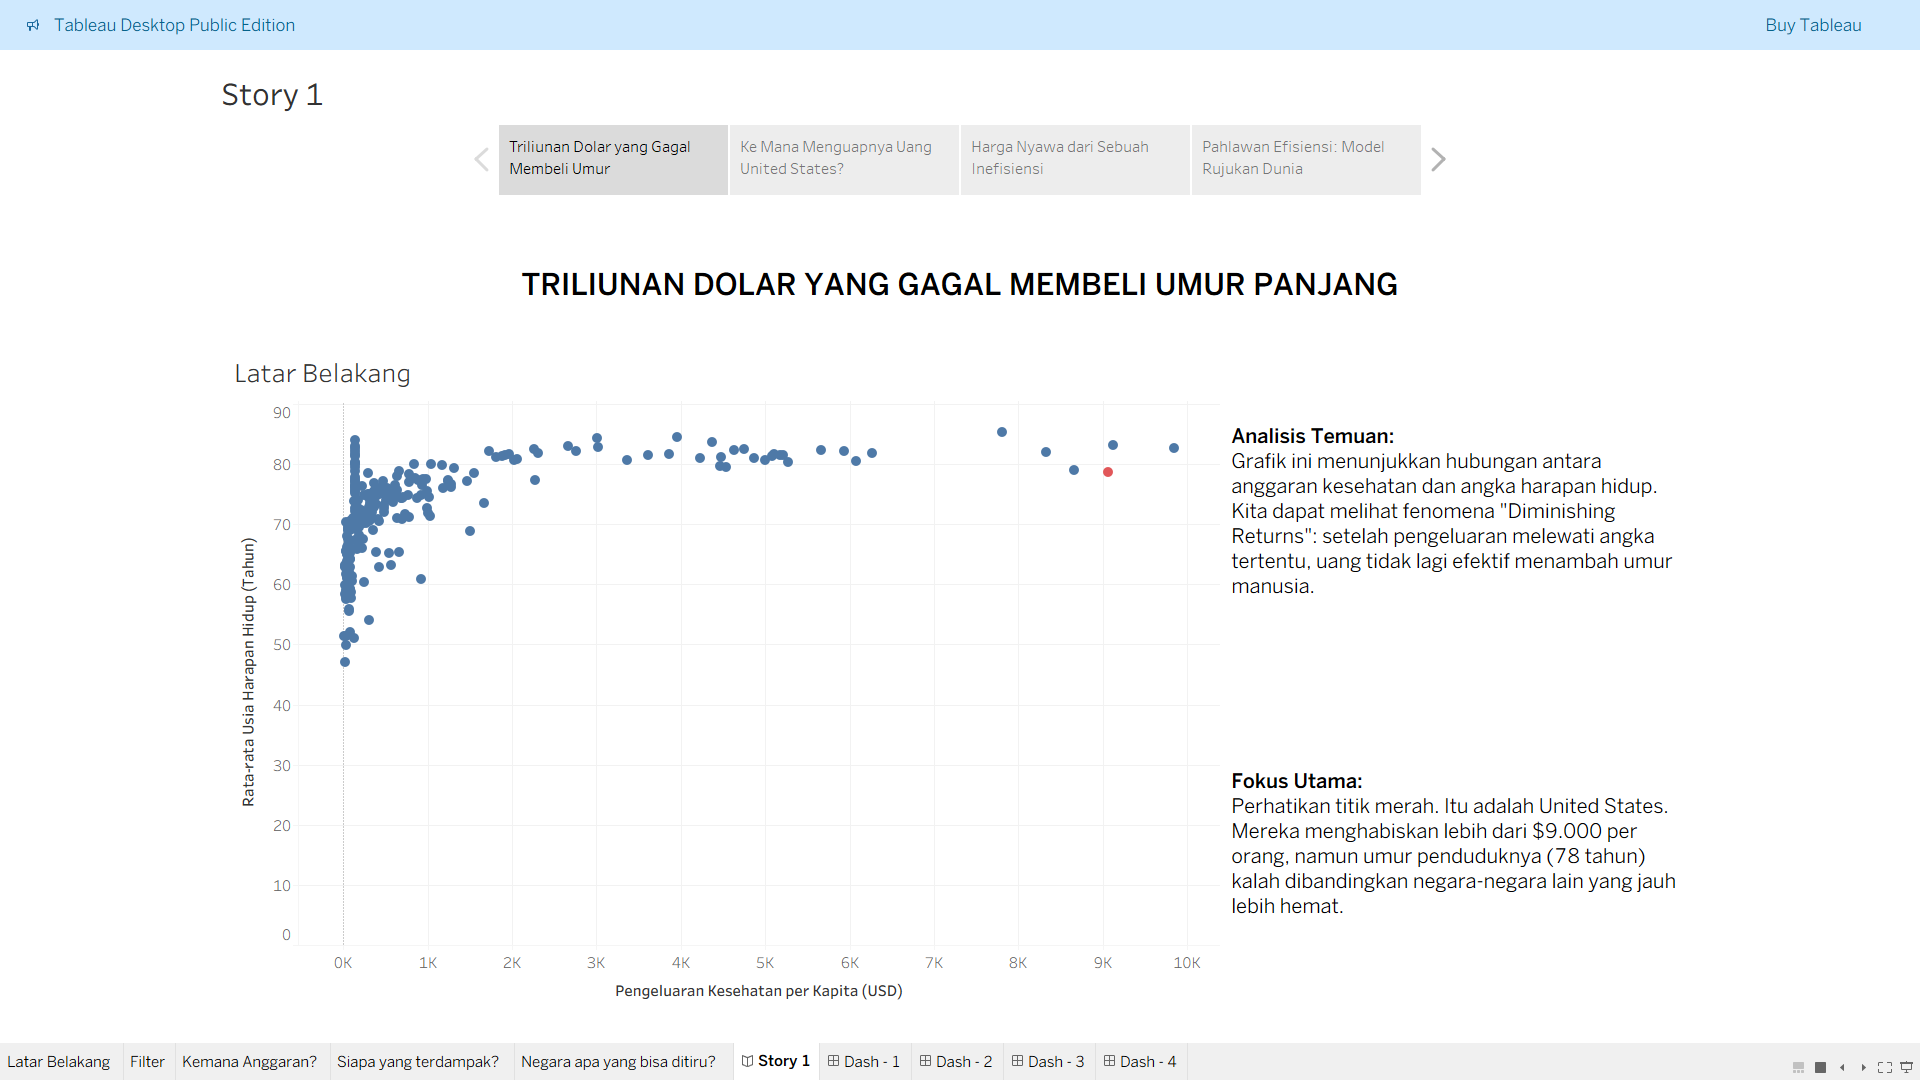

Layout of this report page (visuals, bound fields, positions):
{"tool":"tableau","page":{"name":"Dash - 1","canvas":[1016,964],"ordinal":0},"visuals":[{"type":"text","box":[8,8,1000,148.8]},{"type":"worksheet","title":"Latar Belakang","mark":"Circle","rows":["life_expectancy_total"],"cols":["health_spend_per_capita_usd"],"box":[8,156.8,679.7,799.2]},{"type":"text","box":[687.7,156.8,320.3,799.2]}]}

Visuals, with their boxes on the page's 1016x964 design canvas (x1, y1, x2, y2). These are canvas units, not pixel positions in the 1920x1080 screenshot, which may show the page scaled, cropped or inside an application window:
text: bbox(8, 8, 1008, 157)
"Latar Belakang" worksheet (Circle marks): bbox(8, 157, 688, 956)
text: bbox(688, 157, 1008, 956)
